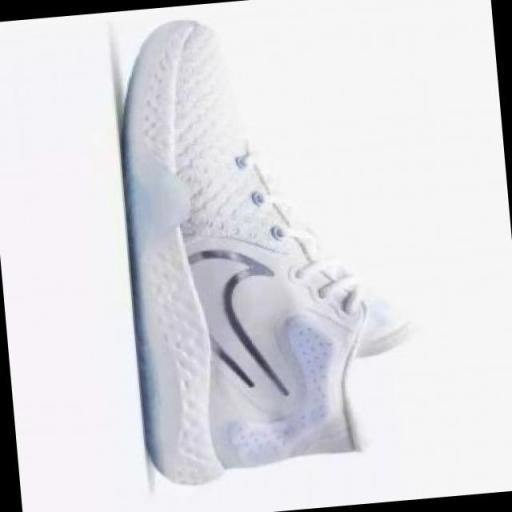Nike: (177, 243, 296, 413)
